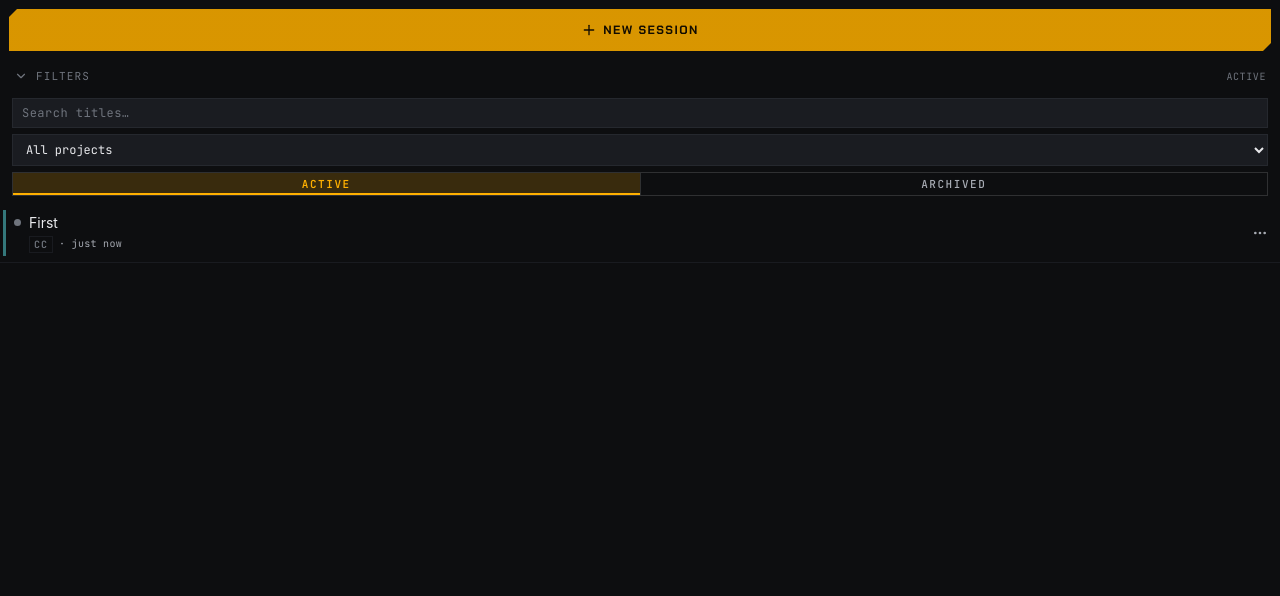
Set tag… opens the inline editor and saves via api.setTag, updating the row (#551)
Expected: the text "First" is shown, [29,214,58,231]
Click the button named "Session actions" at (1260, 233), box [1246,219,1274,247]
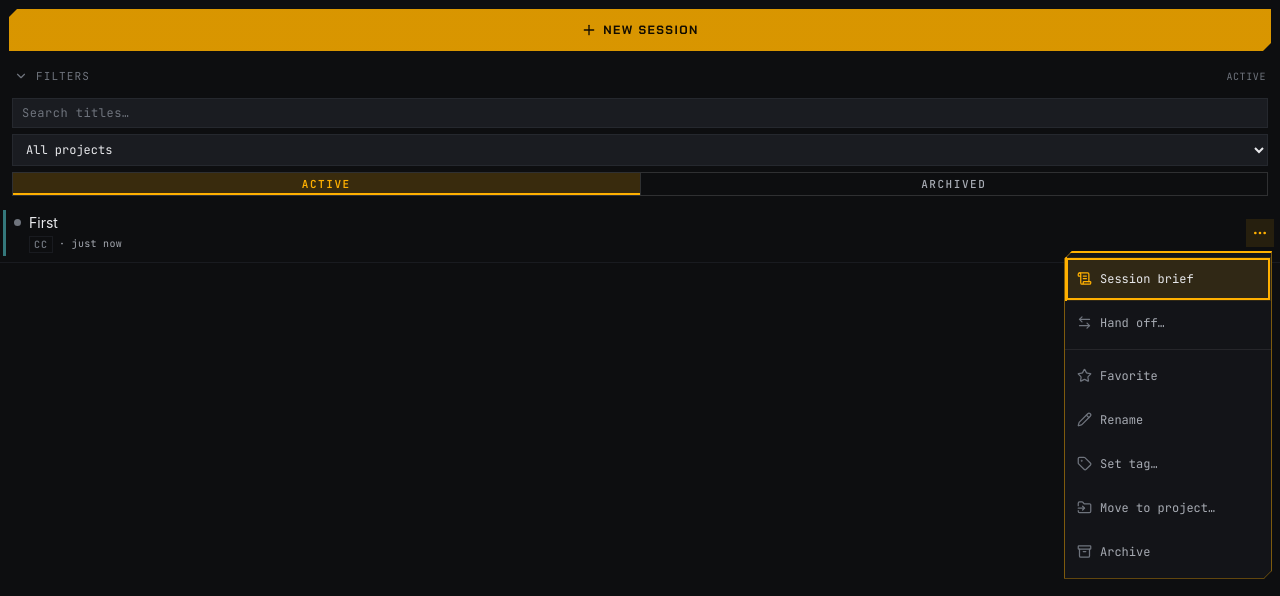
Click the menu item with aria-label "set session tag" at (1168, 464), box [1065,442,1271,486]
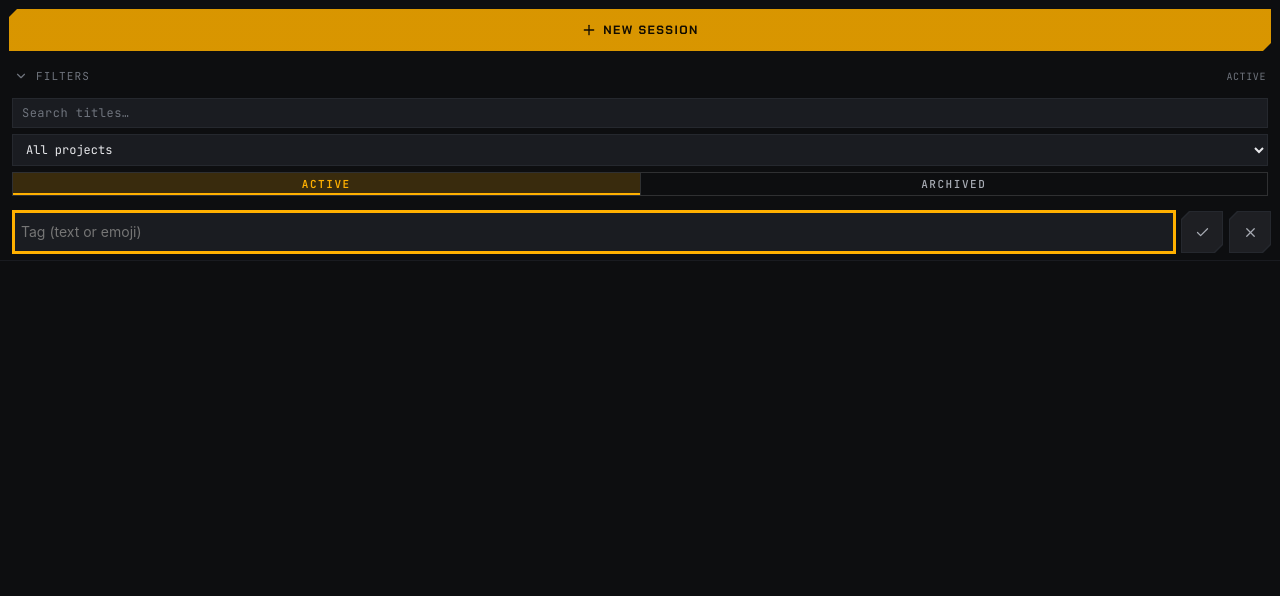
Type "prod" into the field named "session tag" at (594, 232), box [12,210,1176,254]
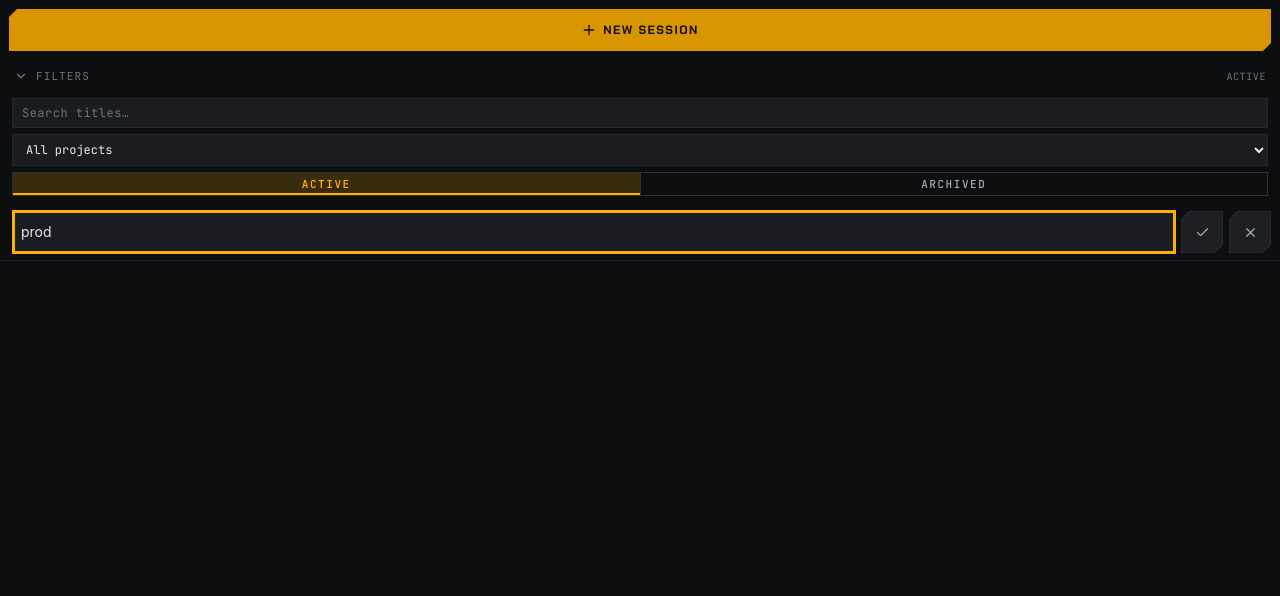
Click the button named "save tag" at (1202, 232), box [1180,210,1224,254]
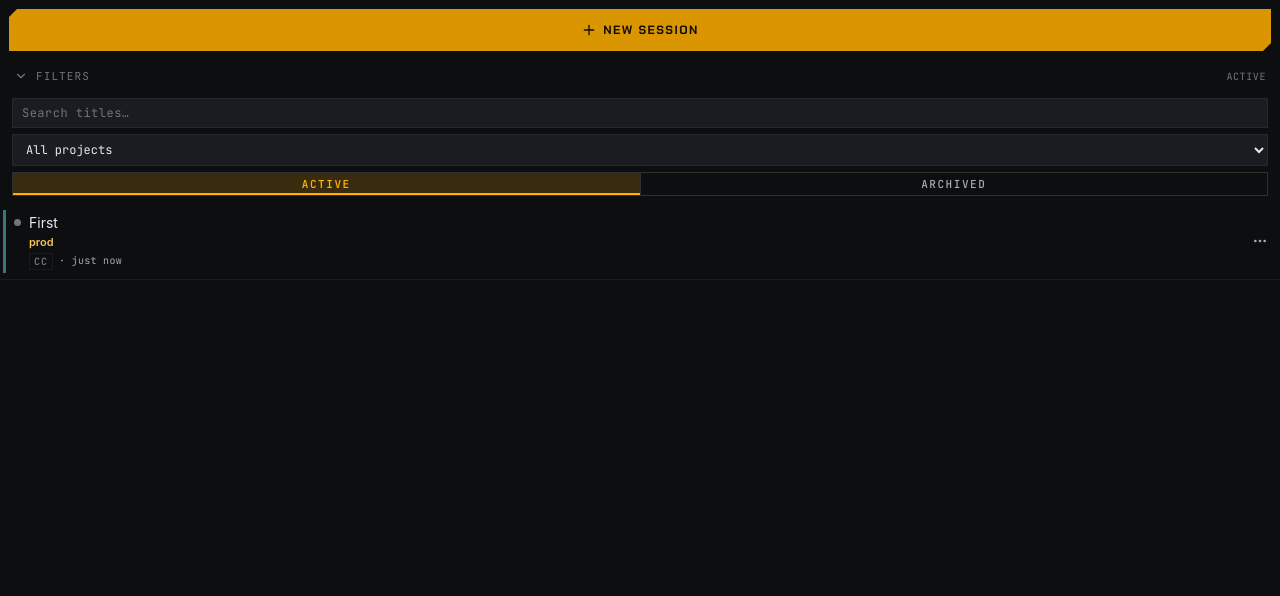
Result: the text "prod" is shown at [29,235,54,249]
